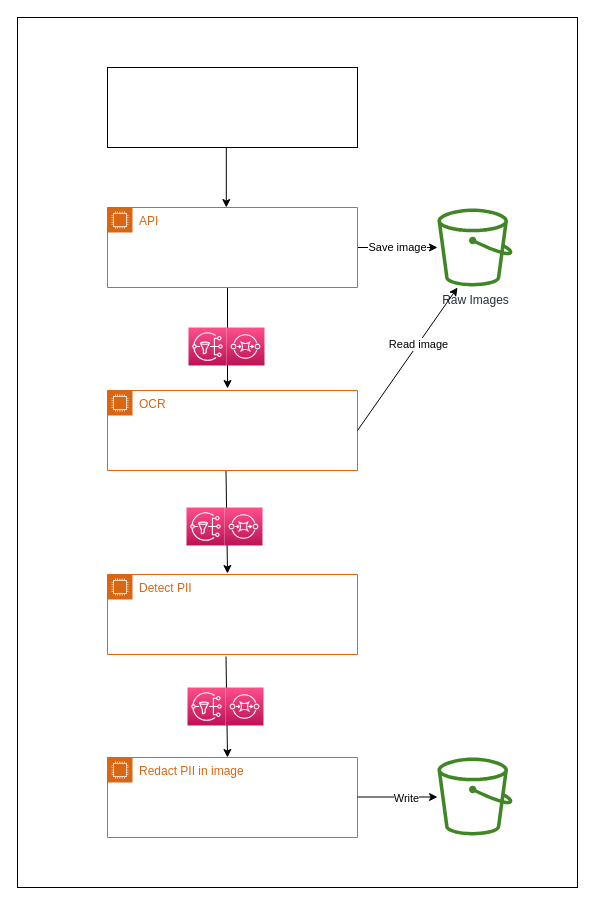
The diagram is 595 pixels wide and 905 high, and some of its shapes have lost their labels. Each missing label, with the box of its shape:
Client application: (106, 66, 358, 148)
Redacted images: (437, 757, 512, 835)
